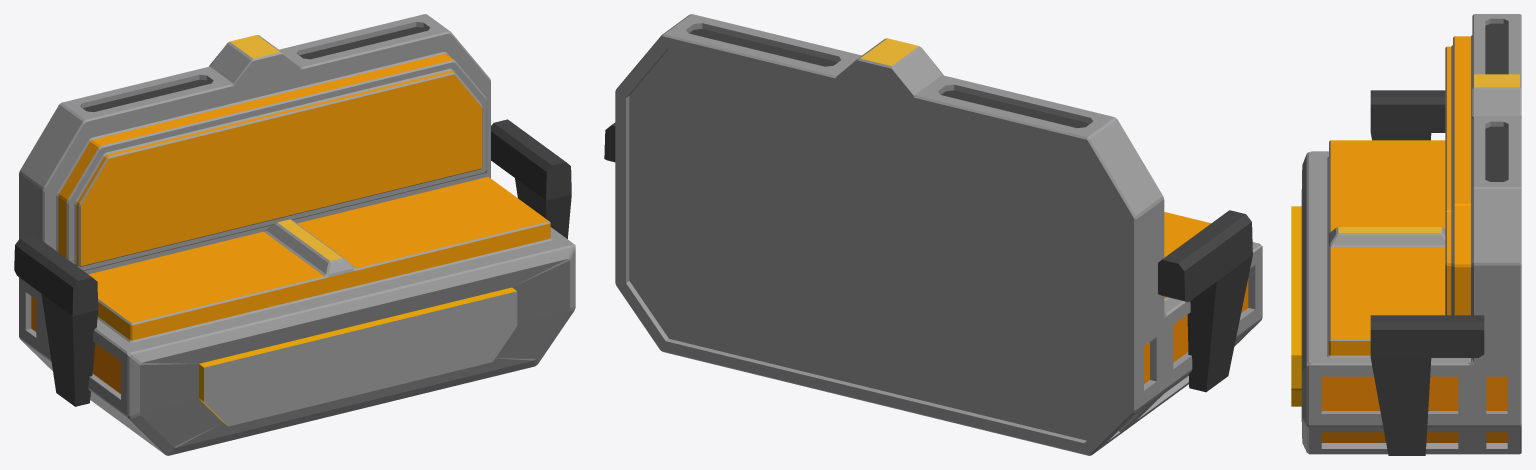
File: Sofa .fbx
3 views of the same model, side by side, from view 1: azimuth 30°, elevation 25°; view 2: azimuth 150°, elevation 25°; view 3: azimuth 270°, elevation 25° (orthographic). The views are drawn at different scales.
Visible parts, largest first — view 1: Sofa.006; view 2: Sofa.006; view 3: Sofa.006.
Boxes of the visible parts, x1,y1,x2,y2 form: Sofa.006: [14, 14, 575, 455]; Sofa.006: [604, 14, 1262, 455]; Sofa.006: [1291, 14, 1521, 455].
Bounding box in the file's own units: 1.81 × 1.02 × 0.7407.
